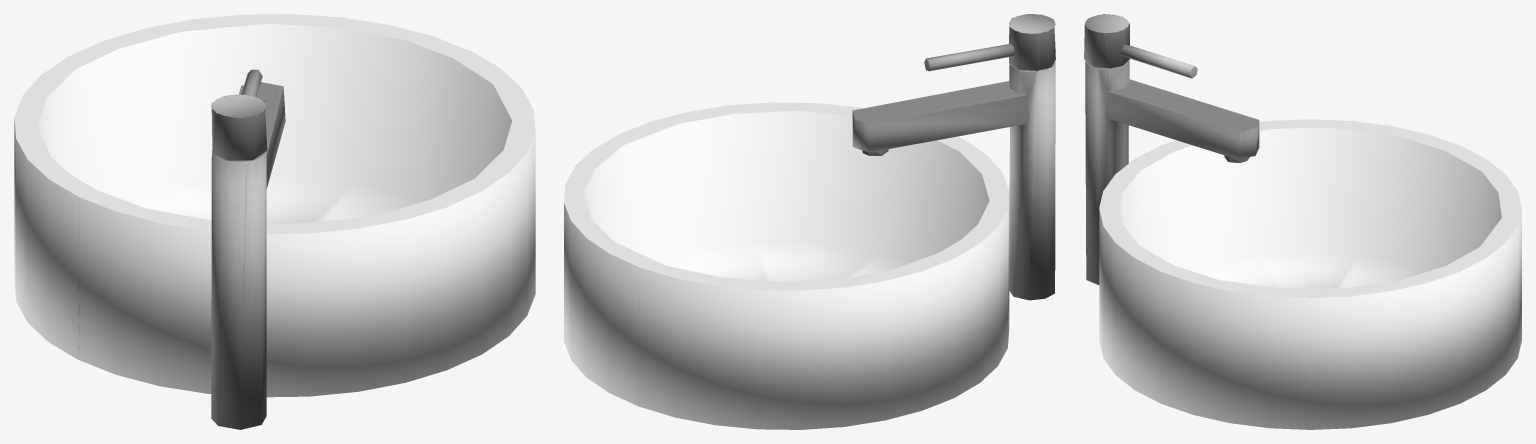
Rendered from int_115.fbx.
3 renders of one model, left to right at view 1: azimuth 30°, elevation 25°; view 2: azimuth 150°, elevation 25°; view 3: azimuth 270°, elevation 25°, orthographic. The views are drawn at different scales.
Parts seen in each view (by area): view 1: lavabo.001; view 2: lavabo.001; view 3: lavabo.001.
Part boxes in pixels (x1,y1,x2,y2): lavabo.001: [14, 14, 535, 429]; lavabo.001: [564, 14, 1055, 429]; lavabo.001: [1084, 14, 1521, 429].
Size of the model in its own units: 56.28 by 37.18 by 58.29.
1 material, 1 textured.
